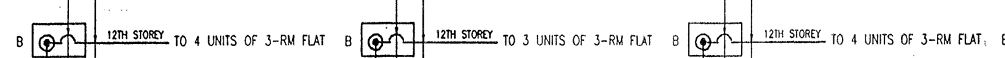Single Phase Tap-Off Unit: (680, 19, 748, 58), (351, 22, 422, 55), (24, 24, 88, 58)
